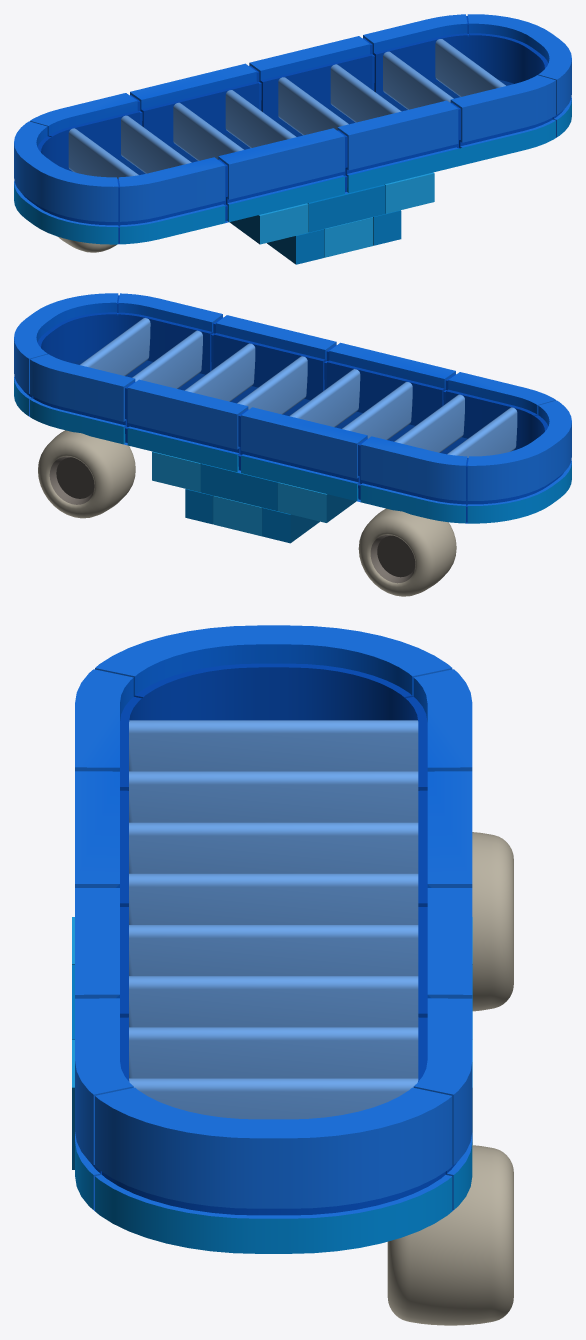
The model's file is BlueSlotTray.fbx.
The picture shows the model from 3 angles, top to bottom: view 1: azimuth 30°, elevation 25°; view 2: azimuth 150°, elevation 25°; view 3: azimuth 270°, elevation 25°; orthographic projection. The views are drawn at different scales.
Visible parts, largest first — view 1: BlueSlotTray, Wheels; view 2: BlueSlotTray, Wheels; view 3: BlueSlotTray, Wheels.
Boxes of the visible parts, x1,y1,x2,y2 form: BlueSlotTray: (14, 14, 571, 264); Wheels: (58, 237, 117, 252); BlueSlotTray: (14, 293, 571, 543); Wheels: (38, 430, 456, 596); BlueSlotTray: (72, 625, 472, 1253); Wheels: (387, 832, 513, 1325).
Bounding box in the file's own units: 1068 × 269 × 389.
Materials: 1 (1 with a texture image).
